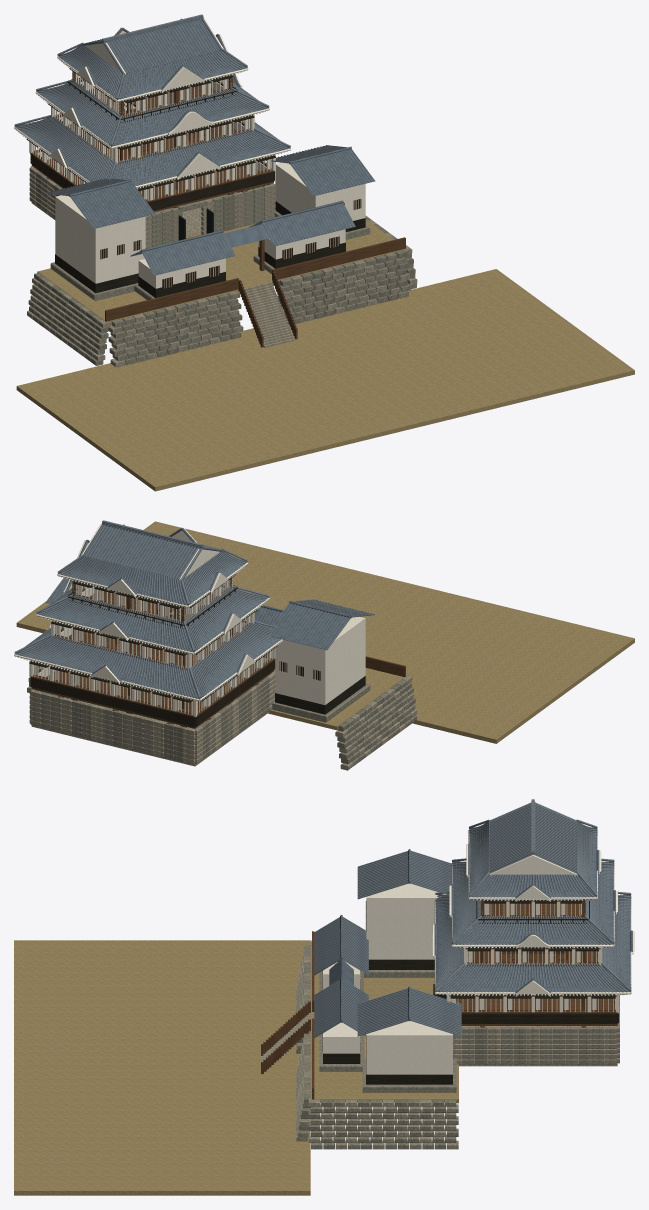
The model's file is matsuyama_keep.glb.
The picture shows the model from 3 angles, top to bottom: view 1: azimuth 30°, elevation 25°; view 2: azimuth 150°, elevation 25°; view 3: azimuth 270°, elevation 25°; orthographic projection. The views are drawn at different scales.
Parts seen in each view (by area): view 1: Honmaru_ground, TenshumaruStone_stone, TenshumaruStone_stone2, HongawaraRoof1Caps_tile, AuxiliaryKeep_C_plaster, HongawaraRoof2Caps_tile, ApproachGuards_wood, HongawaraRoof1_roof, Courtyard_ground, HongawaraRoof3Caps_tile, HongawaraRoof2_roof, NurigomeLattice_plaster (+33 smaller); view 2: Honmaru_ground, HongawaraRoof1Caps_tile, Anagura_stone, AuxiliaryKeep_C_plaster, HongawaraRoof2Caps_tile, HongawaraRoof1_roof, Anagura_stone2, NurigomeLattice_plaster, HongawaraRoof2_roof, HongawaraRoof3Caps_tile, TenshumaruStone_stone, TopRoofCaps_tile (+29 smaller); view 3: Honmaru_ground, TenshumaruStone_stone, HongawaraRoof1Caps_tile, HongawaraRoof2Caps_tile, AuxiliaryKeep_C_plaster, HongawaraRoof1_roof, TopRoofCaps_tile, CornerTurret_C_plaster, Courtyard_ground, Anagura_stone, HongawaraRoof3Caps_tile, TenshumaruStone_stone2 (+34 smaller).
Boxes of the visible parts, left/top/right/bottom form: Honmaru_ground: left=16, top=269, right=634, bottom=491; TenshumaruStone_stone: left=28, top=216, right=416, bottom=365; TenshumaruStone_stone2: left=27, top=219, right=417, bottom=367; HongawaraRoof1Caps_tile: left=16, top=114, right=289, bottom=185; AuxiliaryKeep_C_plaster: left=55, top=195, right=145, bottom=283; HongawaraRoof2Caps_tile: left=37, top=79, right=267, bottom=144; ApproachGuards_wood: left=105, top=237, right=405, bottom=347; HongawaraRoof1_roof: left=15, top=123, right=289, bottom=185; Courtyard_ground: left=37, top=219, right=406, bottom=324; HongawaraRoof3Caps_tile: left=58, top=41, right=246, bottom=97; HongawaraRoof2_roof: left=37, top=82, right=267, bottom=146; NurigomeLattice_plaster: left=33, top=74, right=271, bottom=200; Honmaru_ground: left=16, top=521, right=634, bottom=743; HongawaraRoof1Caps_tile: left=16, top=620, right=279, bottom=696; Anagura_stone: left=39, top=677, right=269, bottom=761; AuxiliaryKeep_C_plaster: left=275, top=616, right=365, bottom=704; HongawaraRoof2Caps_tile: left=37, top=586, right=268, bottom=650; HongawaraRoof1_roof: left=16, top=625, right=280, bottom=698; Anagura_stone2: left=29, top=672, right=275, bottom=764; NurigomeLattice_plaster: left=33, top=580, right=272, bottom=714; HongawaraRoof2_roof: left=37, top=585, right=268, bottom=652; HongawaraRoof3Caps_tile: left=58, top=551, right=246, bottom=603; TenshumaruStone_stone: left=28, top=665, right=416, bottom=765; TopRoofCaps_tile: left=85, top=524, right=222, bottom=579; Honmaru_ground: left=14, top=940, right=310, bottom=1195; TenshumaruStone_stone: left=296, top=945, right=458, bottom=1149; HongawaraRoof1Caps_tile: left=436, top=894, right=630, bottom=991; HongawaraRoof2Caps_tile: left=453, top=861, right=613, bottom=944; AuxiliaryKeep_C_plaster: left=365, top=883, right=446, bottom=959; HongawaraRoof1_roof: left=436, top=895, right=630, bottom=991; TopRoofCaps_tile: left=489, top=802, right=577, bottom=871; CornerTurret_C_plaster: left=365, top=1021, right=453, bottom=1074; Courtyard_ground: left=310, top=942, right=458, bottom=1103; Anagura_stone: left=446, top=996, right=619, bottom=1064; HongawaraRoof3Caps_tile: left=469, top=821, right=596, bottom=896; TenshumaruStone_stone2: left=296, top=940, right=458, bottom=1149.
Size of the model in its own units: 48 by 21.84 by 50.23.
Materials: 10 (10 with a texture image).
